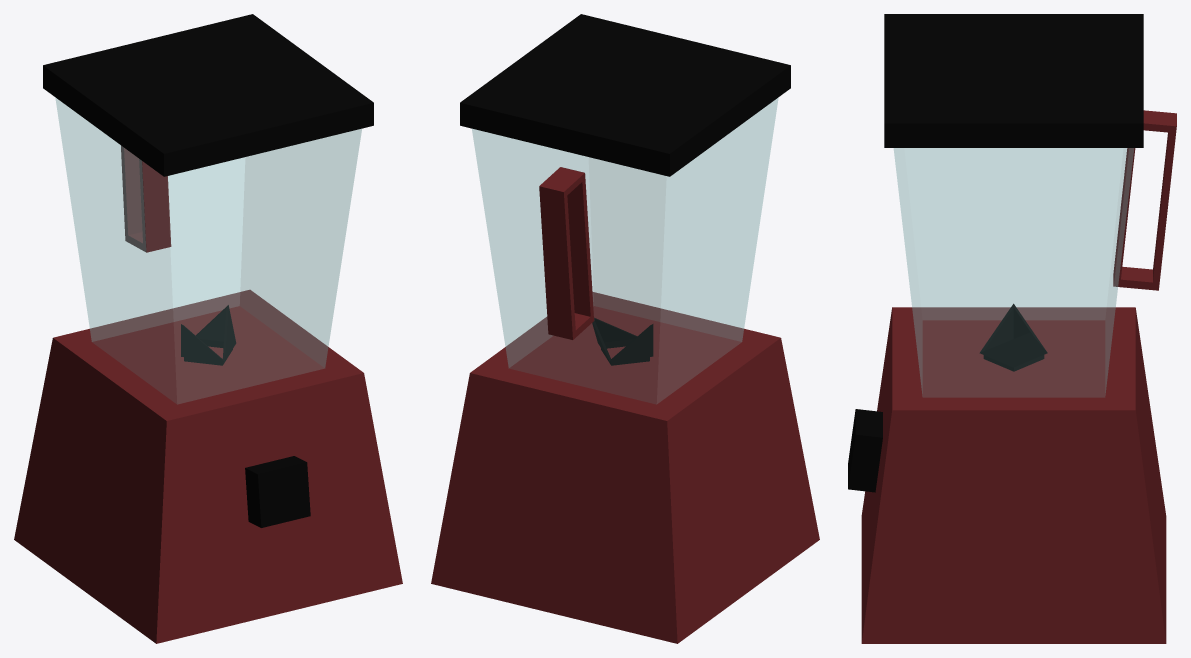
The model's file is fruit juice blender.fbx.
3 views of the same model, side by side, from view 1: azimuth 30°, elevation 25°; view 2: azimuth 150°, elevation 25°; view 3: azimuth 270°, elevation 25° (orthographic). The views are drawn at different scales.
Parts seen in each view (by area): view 1: blender_full_lowpoly, fruit juice blender glass, blender_full_lowpoly.004, hand; view 2: blender_full_lowpoly, fruit juice blender glass, blender_full_lowpoly.004, hand; view 3: blender_full_lowpoly, fruit juice blender glass, blender_full_lowpoly.004, hand.
Boxes of the visible parts, x1,y1,x2,y2 form: blender_full_lowpoly: (14, 290, 402, 643); fruit juice blender glass: (55, 98, 361, 404); blender_full_lowpoly.004: (43, 14, 373, 527); hand: (121, 145, 171, 252); blender_full_lowpoly: (431, 292, 819, 643); fruit juice blender glass: (472, 98, 778, 404); blender_full_lowpoly.004: (460, 14, 790, 365); hand: (539, 167, 594, 339); blender_full_lowpoly: (861, 307, 1166, 643); fruit juice blender glass: (894, 148, 1133, 397); blender_full_lowpoly.004: (848, 14, 1143, 492); hand: (1113, 110, 1176, 290).
Size of the model in its own units: 100 by 185 by 108.
